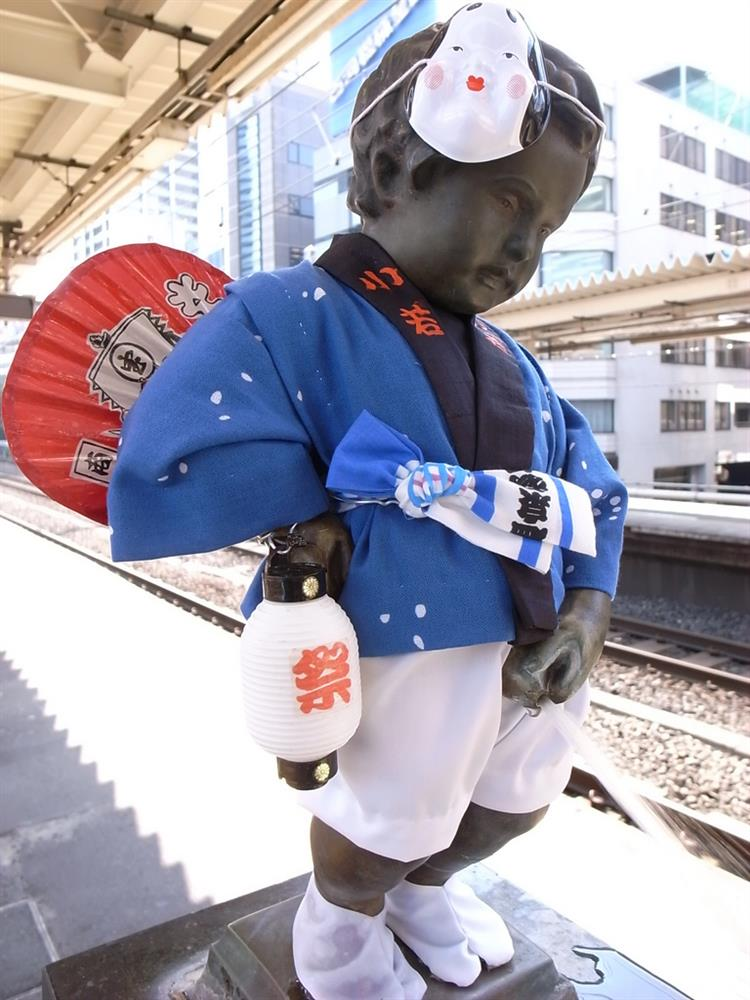Manneken_Pis: (195, 33, 689, 979)
